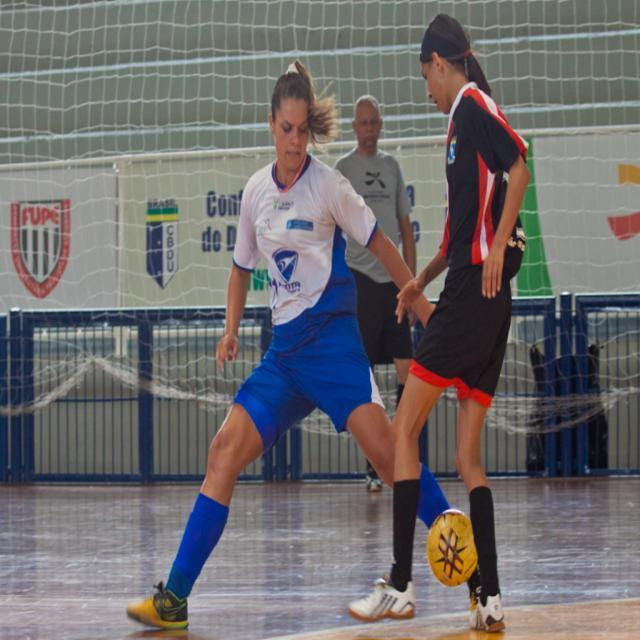football: (421, 511, 494, 609)
